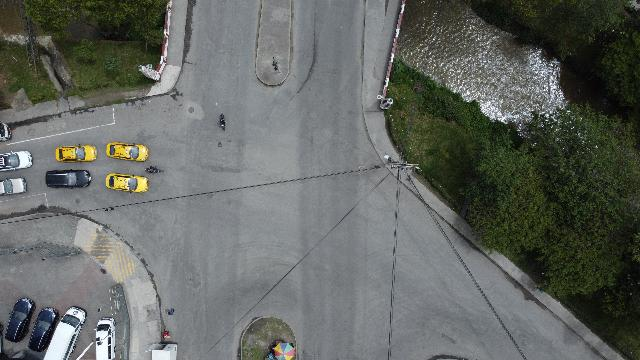Vehiculo: (44, 307, 86, 360), (5, 298, 35, 342), (28, 308, 58, 352), (95, 317, 116, 359), (105, 173, 148, 193), (107, 142, 149, 162), (46, 170, 90, 188), (55, 145, 97, 163), (0, 151, 32, 171), (0, 178, 26, 195), (0, 122, 12, 142)
